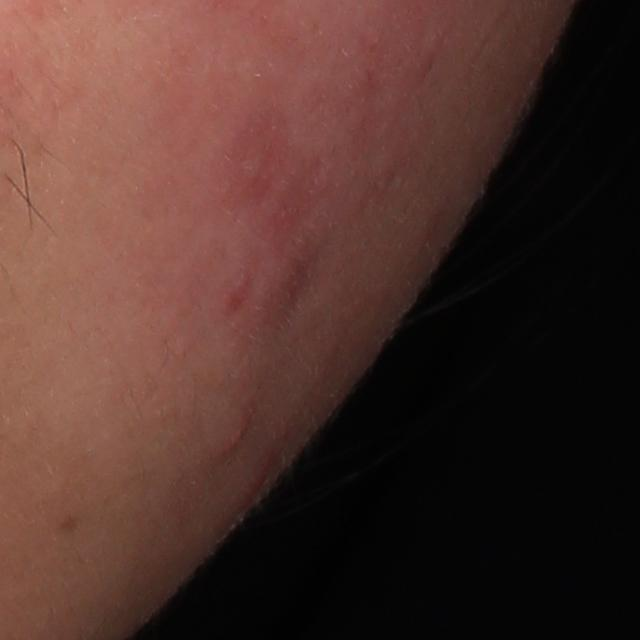papule: (208, 413, 253, 464)
